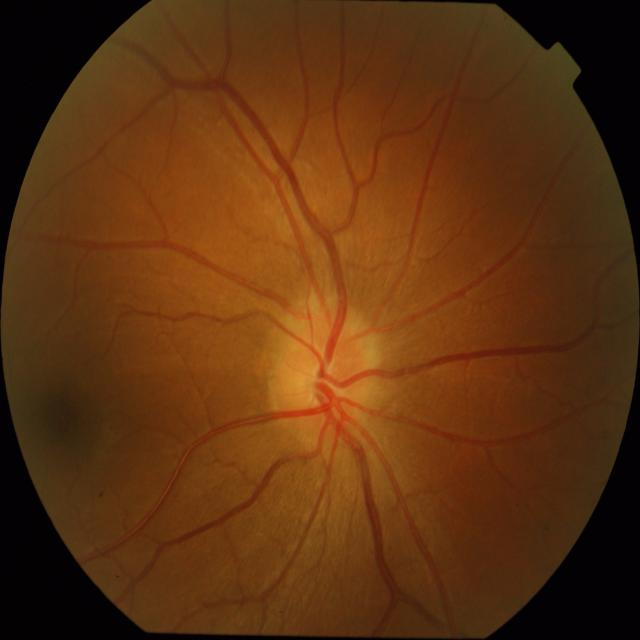OC: (304, 360, 343, 406)
OD: (270, 311, 372, 436)
